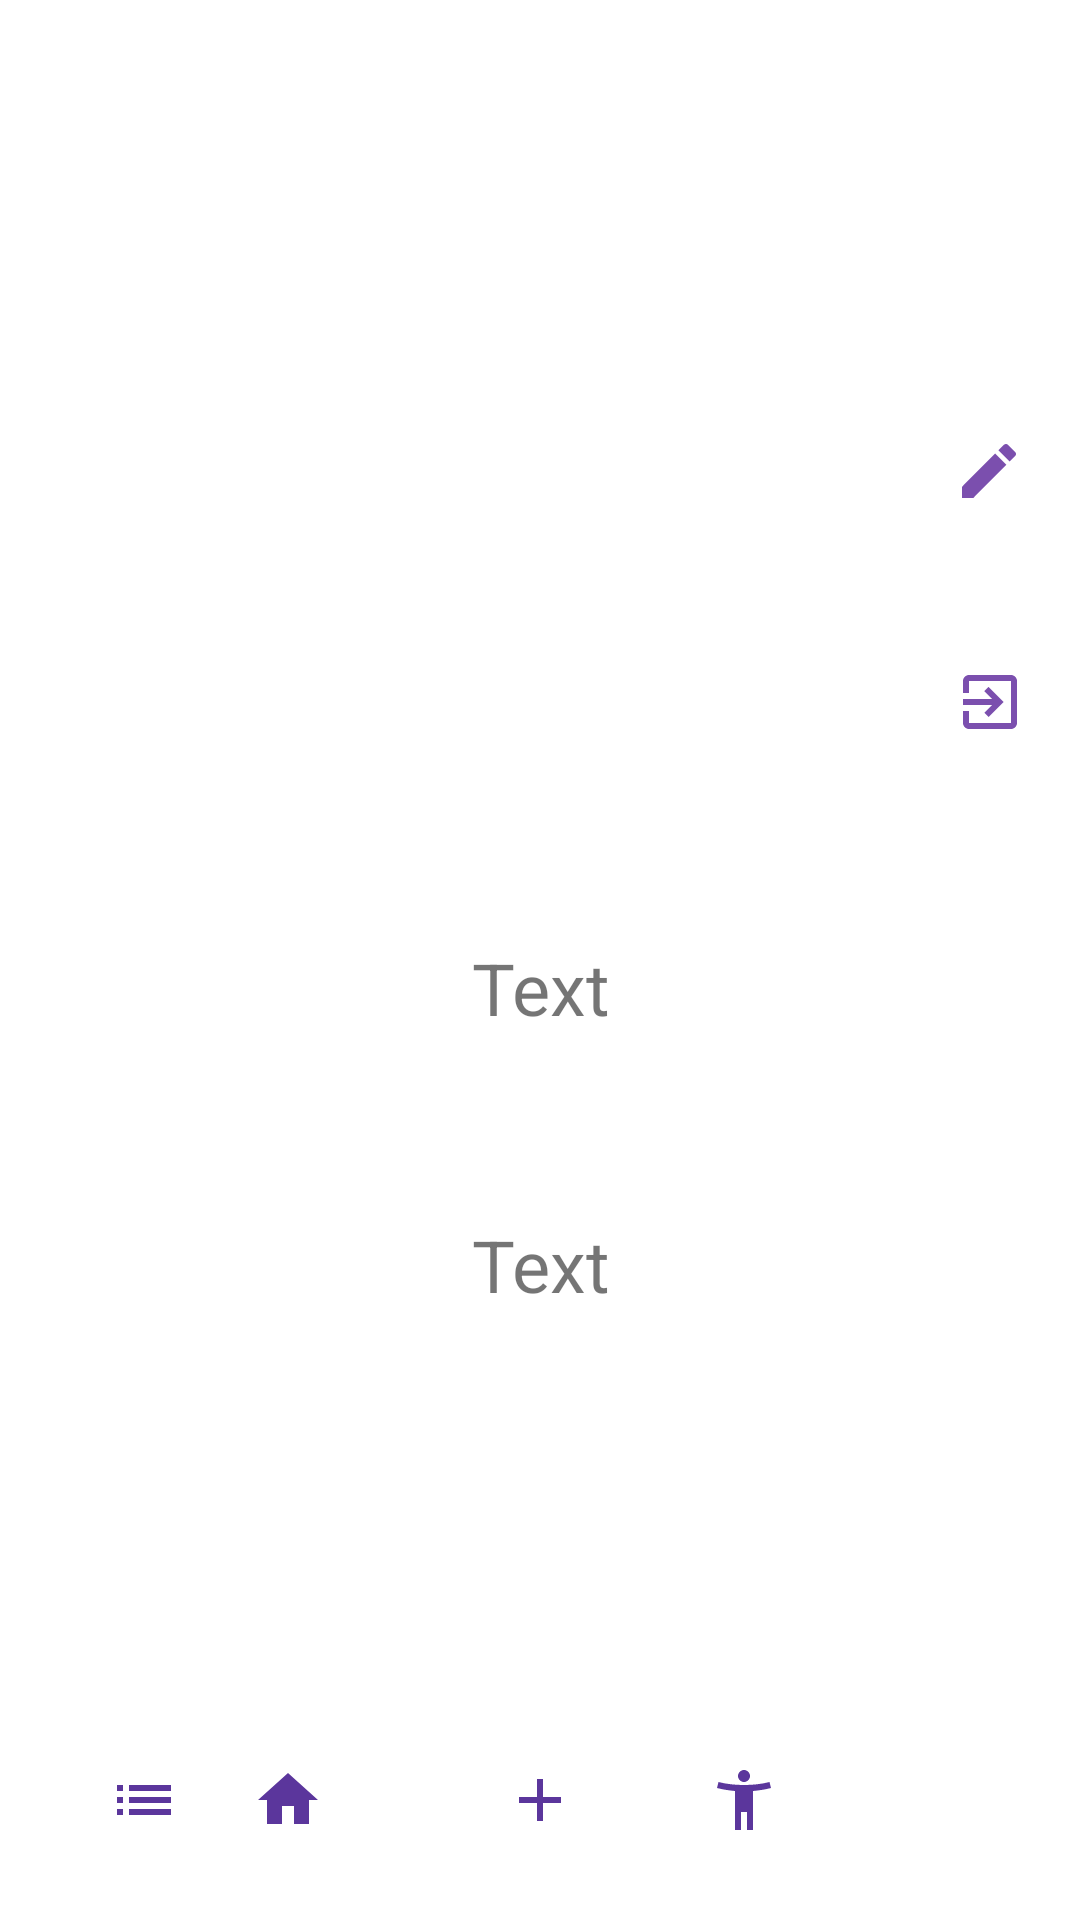

Point at icon controls on the screen. Image size 1080×1920, points as [x,y].
edit: [989,471]
feed: [144,1800]
home: [288,1798]
post: [540,1800]
sign out: [990,702]
